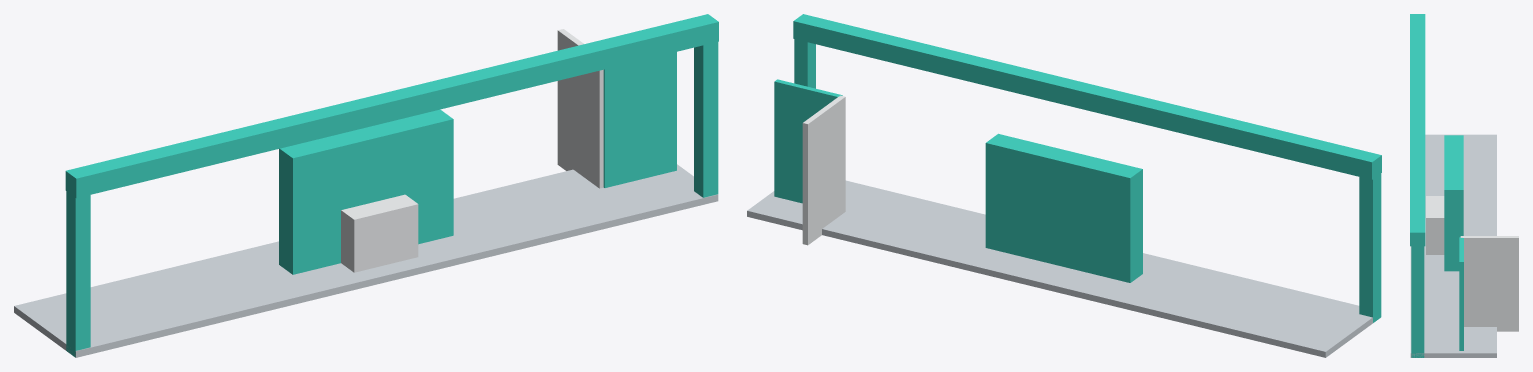
3 views of the same model, side by side, from view 1: azimuth 30°, elevation 25°; view 2: azimuth 150°, elevation 25°; view 3: azimuth 270°, elevation 25° (orthographic). The views are drawn at different scales.
Visible parts, largest first — view 1: Exhibition Booth Concept; view 2: Exhibition Booth Concept; view 3: Exhibition Booth Concept.
Part boxes in pixels (x1=…): Exhibition Booth Concept: x1=14, y1=14, x2=718, y2=357; Exhibition Booth Concept: x1=747, y1=14, x2=1381, y2=357; Exhibition Booth Concept: x1=1410, y1=14, x2=1518, y2=357.
Size of the model in its own units: 12 by 3.2 by 2.52.
